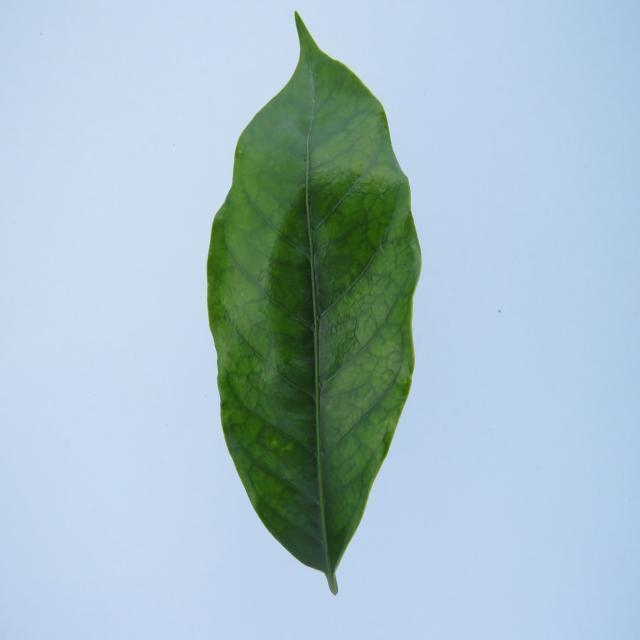DeficienciaNutricional-Hierro: (208, 13, 421, 593)
